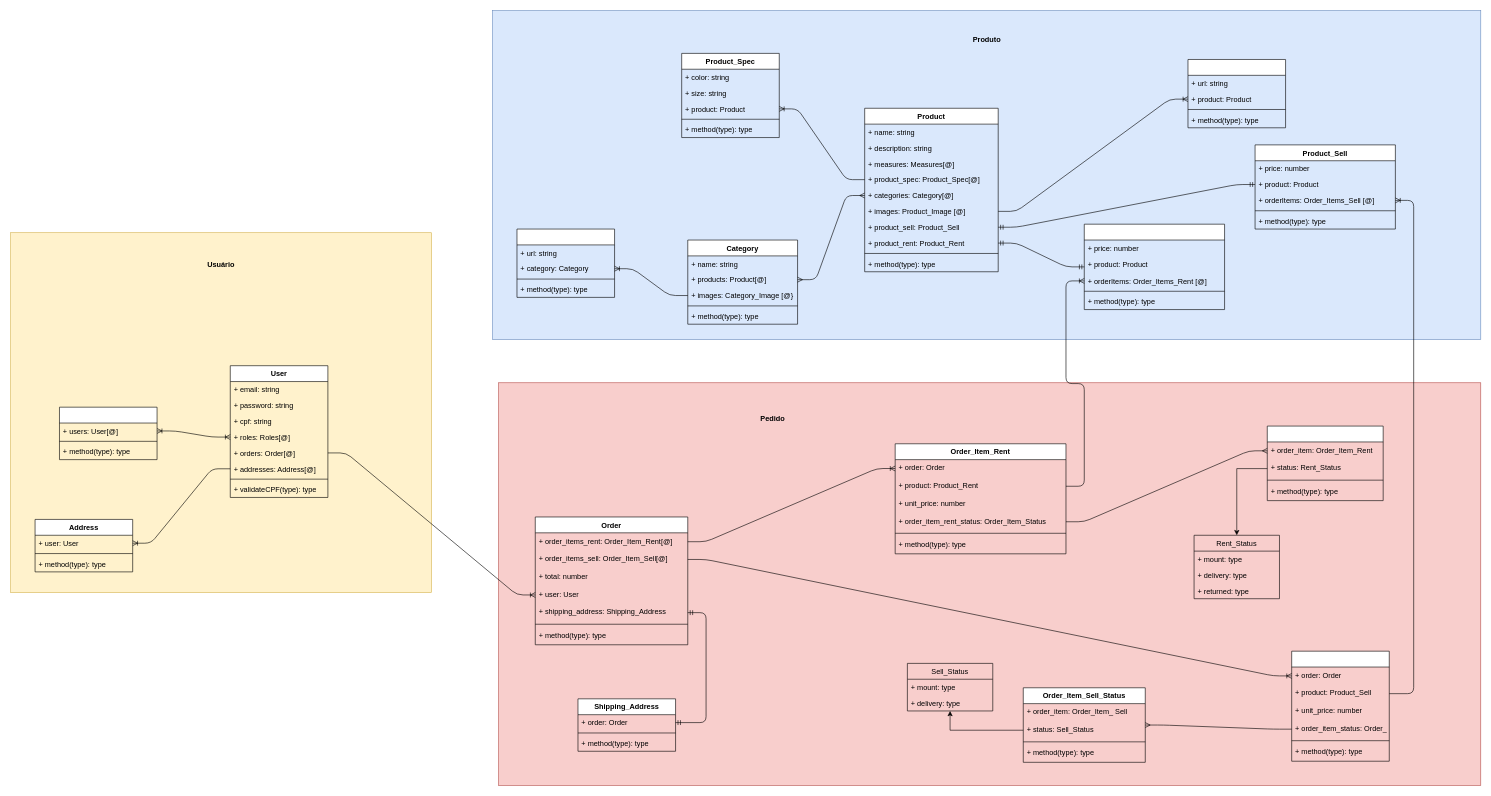
The diagram is 1491 pixels wide and 796 high, and some of its shapes have lost their labels. Each missing label, with the box of its shape:
Category_Image: (516, 228, 615, 297)
Order_Item_Rent_Status: (1267, 425, 1383, 501)
Order_Item_Sell: (1291, 651, 1389, 761)
Product_Image: (1187, 59, 1286, 128)
Product_Rent: (1084, 224, 1225, 310)
Role: (59, 407, 157, 460)
